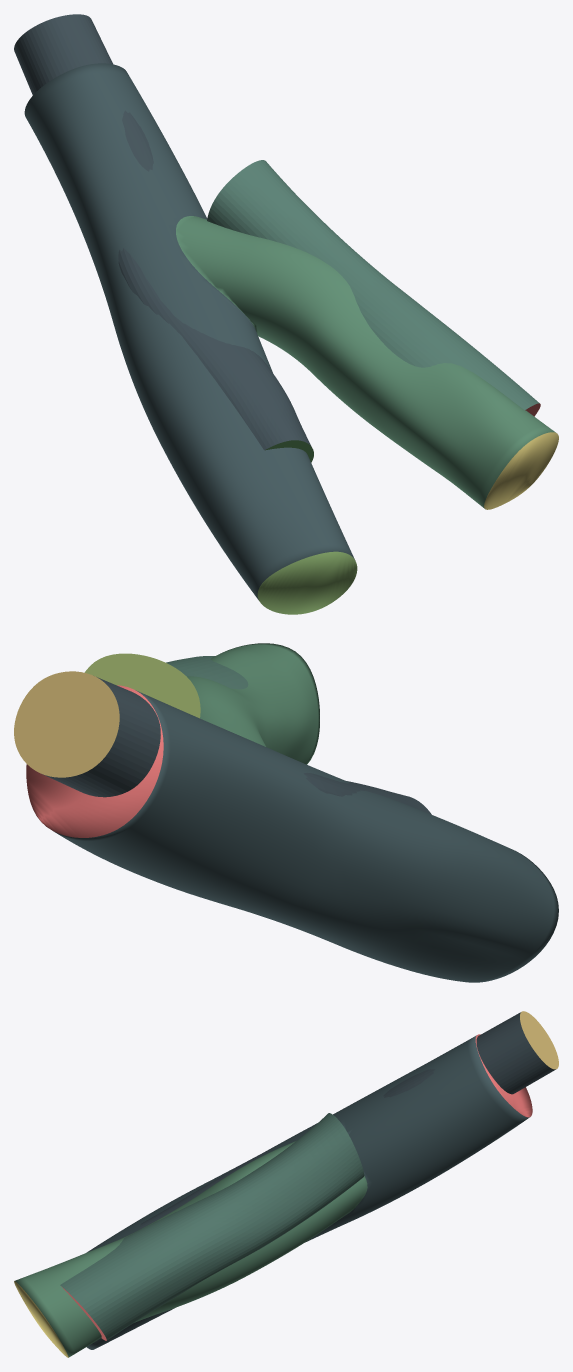
File: VTP 2.fbx
3 renders of one model, top to bottom at view 1: azimuth 30°, elevation 25°; view 2: azimuth 150°, elevation 25°; view 3: azimuth 270°, elevation 25°, orthographic. The views are drawn at different scales.
Parts seen in each view (by area): view 1: VTP Joined, VTP Loose 2, VTP Loose 1; view 2: VTP Joined, VTP Loose 1, VTP Loose 2; view 3: VTP Joined, VTP Loose 2, VTP Loose 1.
Part boxes in pixels (<box>): VTP Joined: <box>24,63,558,614</box>; VTP Loose 2: <box>207,160,540,416</box>; VTP Loose 1: <box>14,14,313,462</box>; VTP Joined: <box>26,643,558,982</box>; VTP Loose 1: <box>14,671,431,814</box>; VTP Loose 2: <box>84,653,248,718</box>; VTP Joined: <box>14,1034,532,1357</box>; VTP Loose 2: <box>60,1113,364,1340</box>; VTP Loose 1: <box>140,1011,558,1229</box>.
Bounding box in the file's own units: 30.12 × 39.52 × 58.
